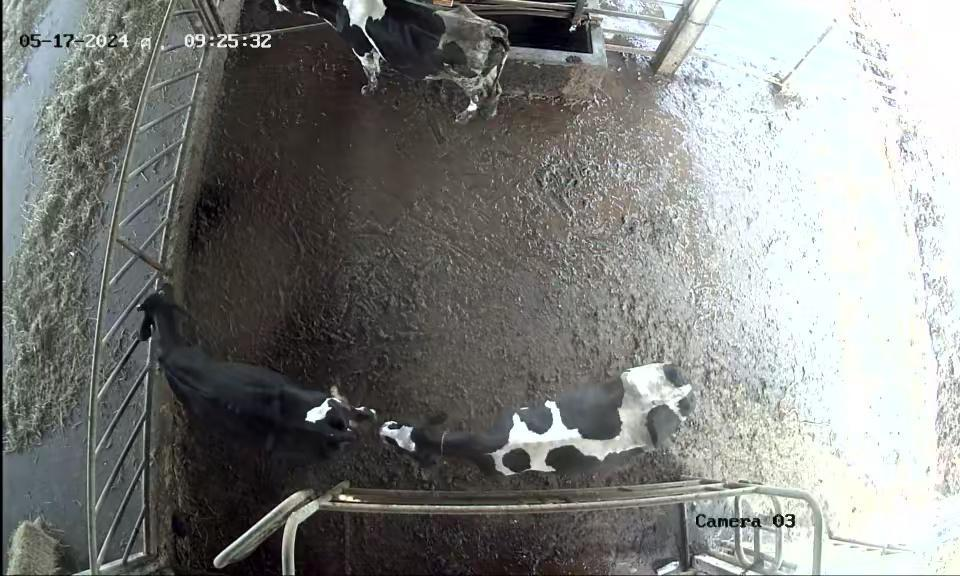stand: (125, 278, 376, 460), (377, 359, 715, 487), (270, 0, 515, 127)
